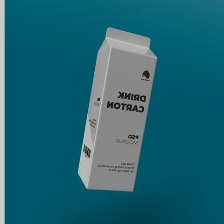carton: (74, 24, 160, 194)
